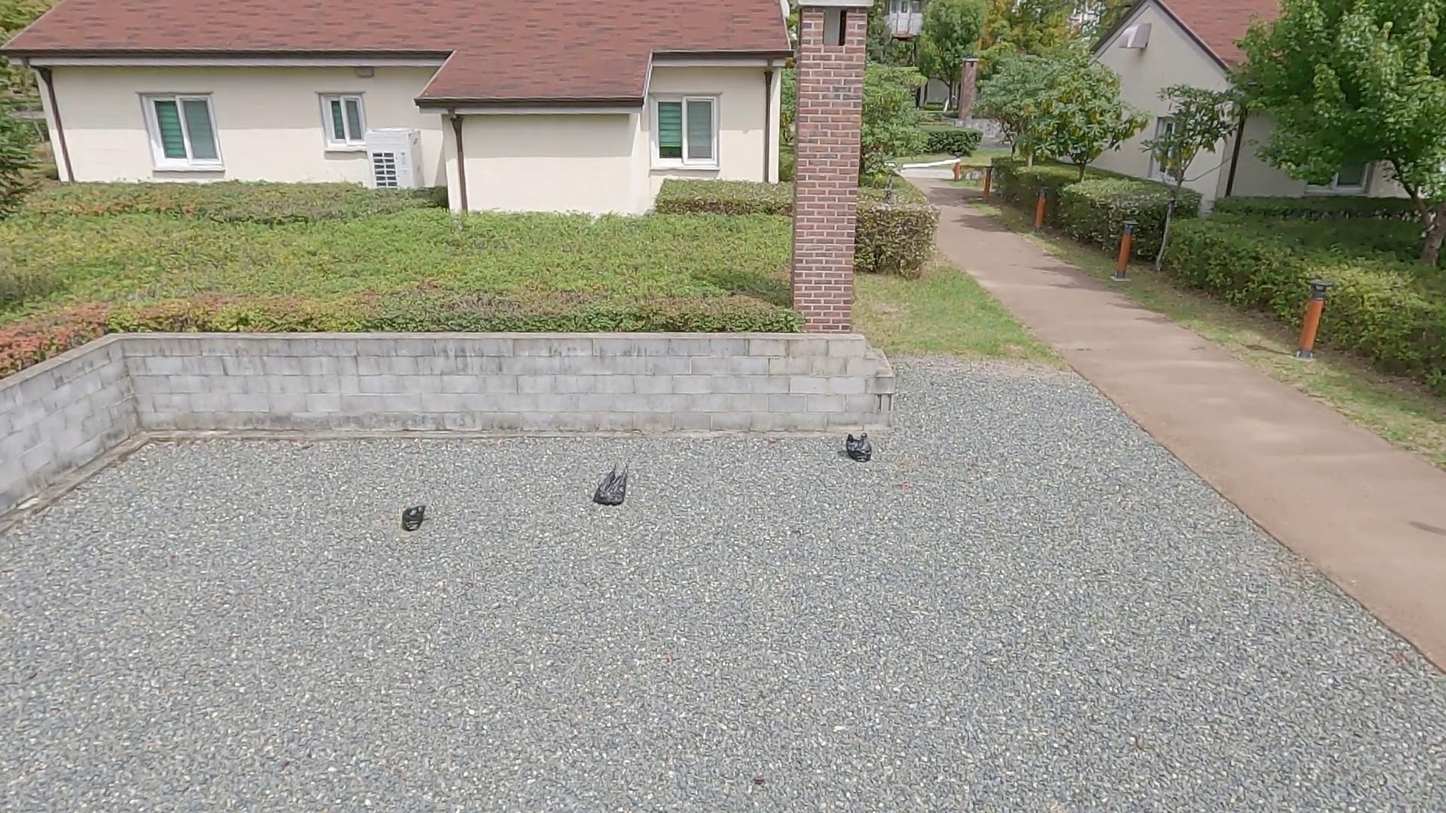trash: (592, 462, 629, 509), (845, 431, 874, 465), (400, 504, 427, 534)
